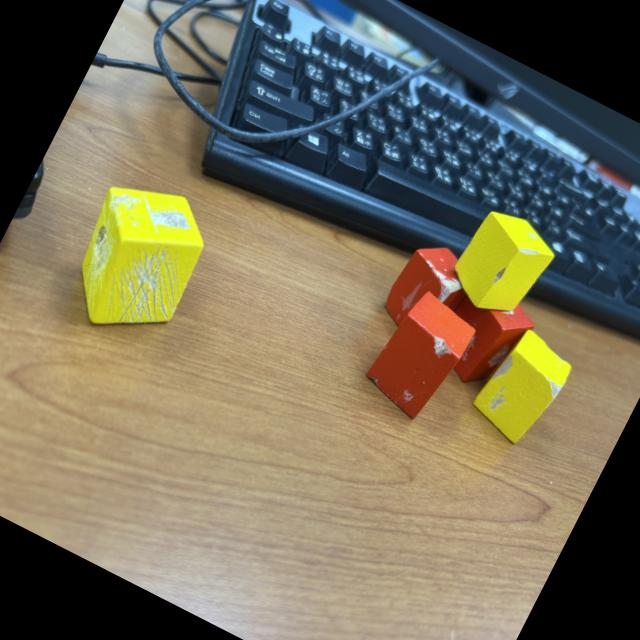broken: (51, 164, 224, 354), (356, 283, 482, 428), (442, 200, 564, 328), (463, 320, 579, 452), (426, 276, 542, 400), (376, 234, 480, 348)
